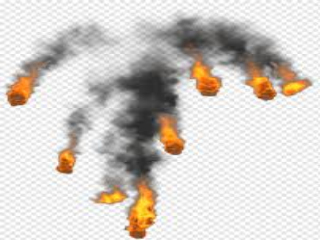fire: (126, 180, 162, 235), (277, 64, 312, 99), (243, 70, 276, 106), (155, 120, 186, 156), (193, 65, 223, 100), (8, 82, 39, 109), (55, 149, 76, 175), (96, 190, 124, 203)
smoke: (103, 54, 169, 178), (174, 20, 271, 60), (32, 23, 99, 74)
